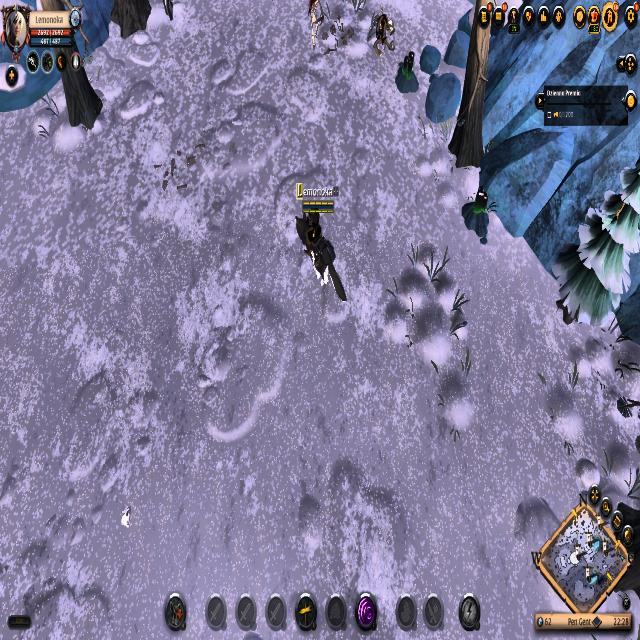ore tier 3: (463, 186, 491, 248), (394, 49, 421, 98)
